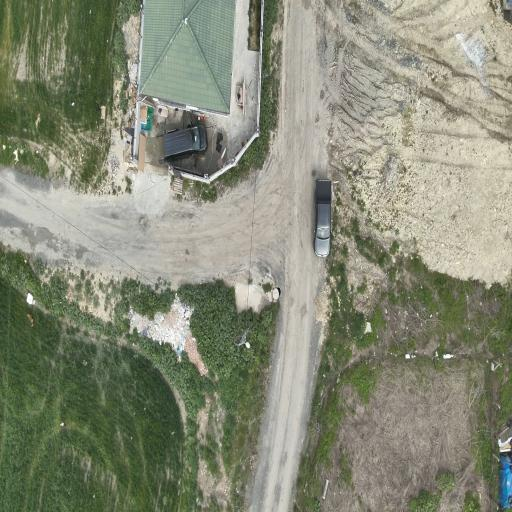car: (164, 124, 207, 160), (314, 179, 331, 256)
